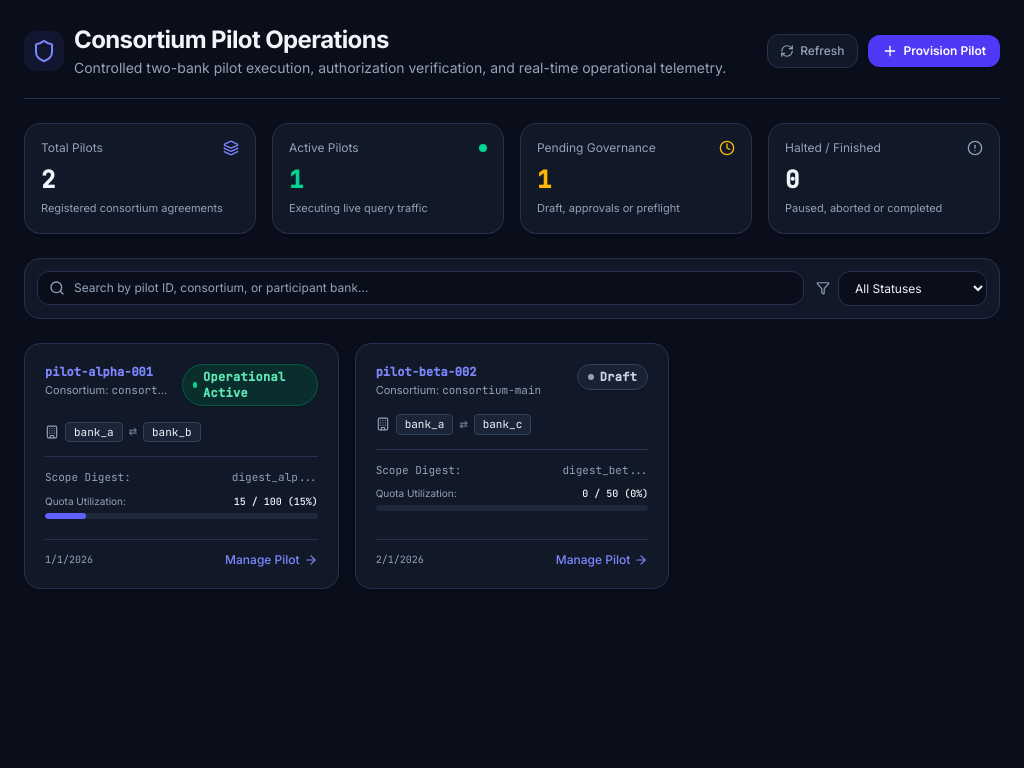
Test: PilotOperationsPage Component › filters pilots by status dropdown and verifies real PilotStatus options
Select "Draft" in the dropdown: (912, 288) top-left (838, 270), bottom-right (987, 306)
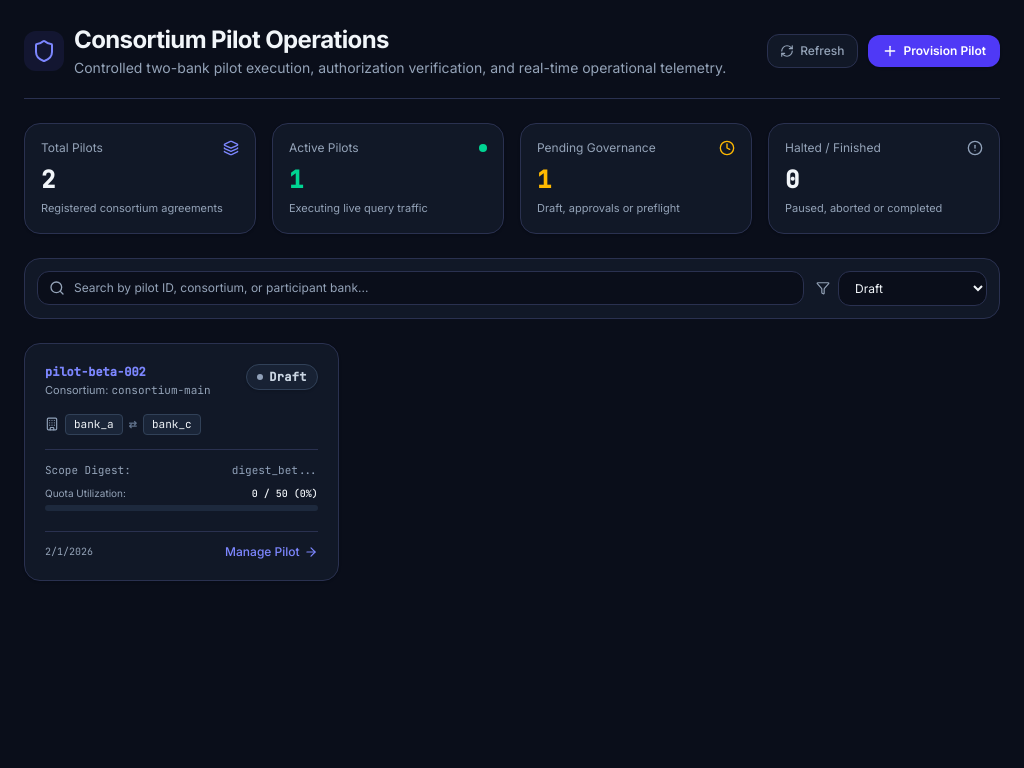
Expected: the text "pilot-beta-002" is shown, top-left (45, 364), bottom-right (146, 380)
Expected: the text "pilot-alpha-001" is gone
